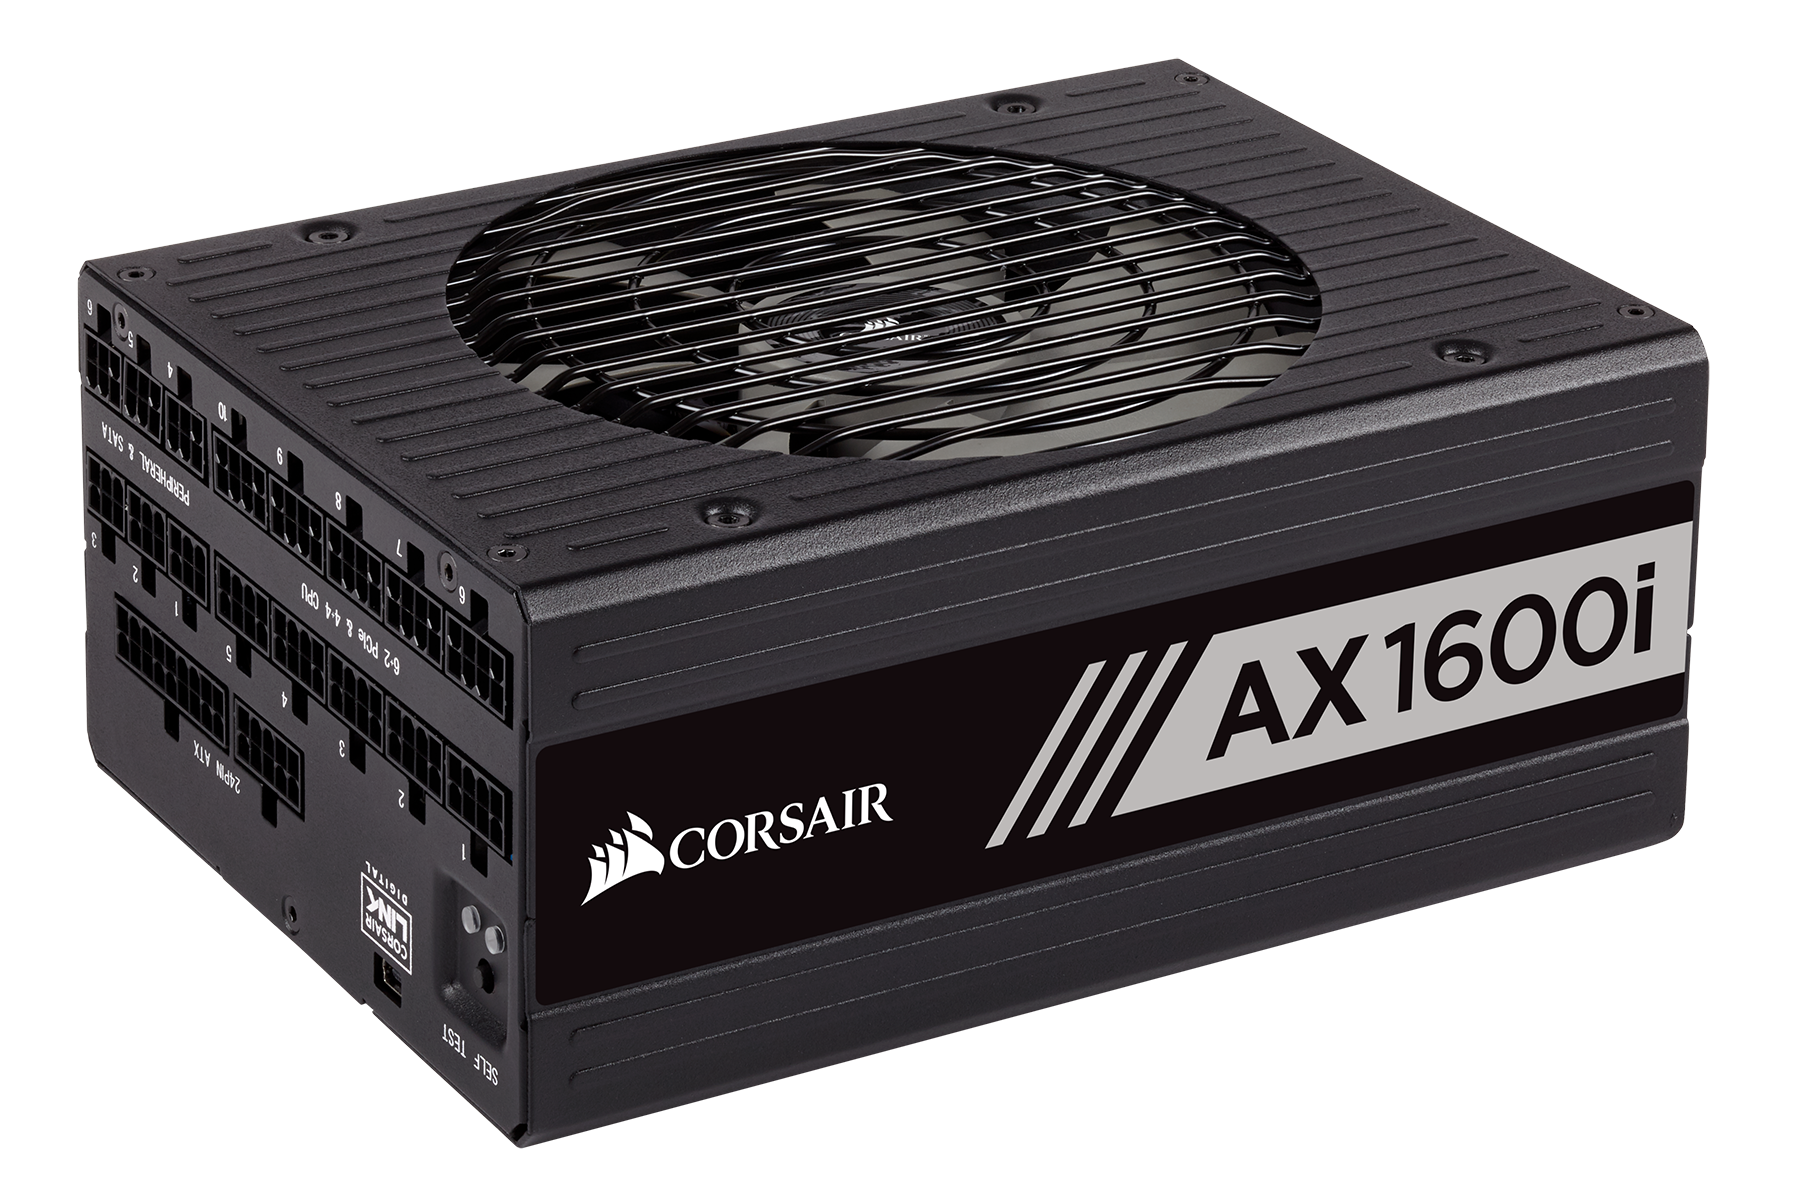Power Supply: (73, 39, 1754, 1166)
